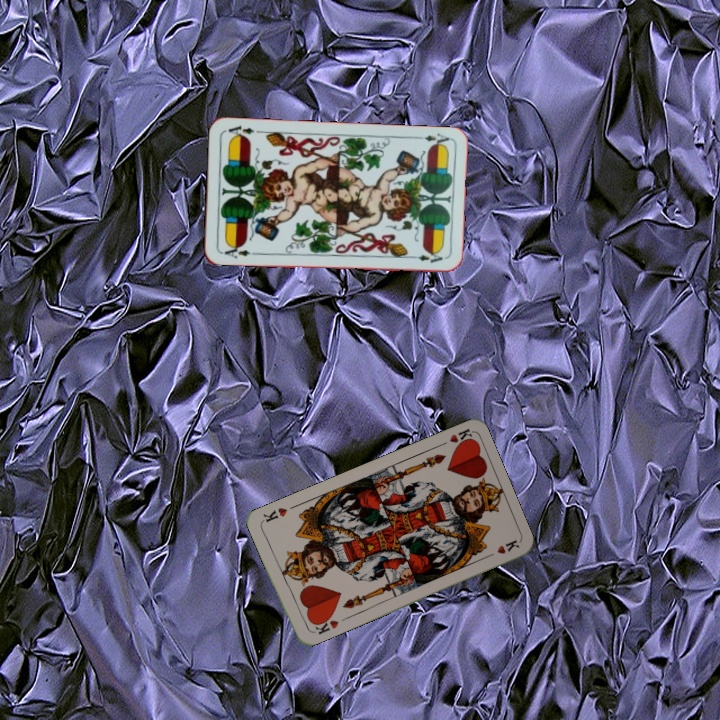EA: (218, 241, 258, 261), (412, 129, 452, 149)
HK: (434, 424, 475, 450), (307, 612, 341, 637)
